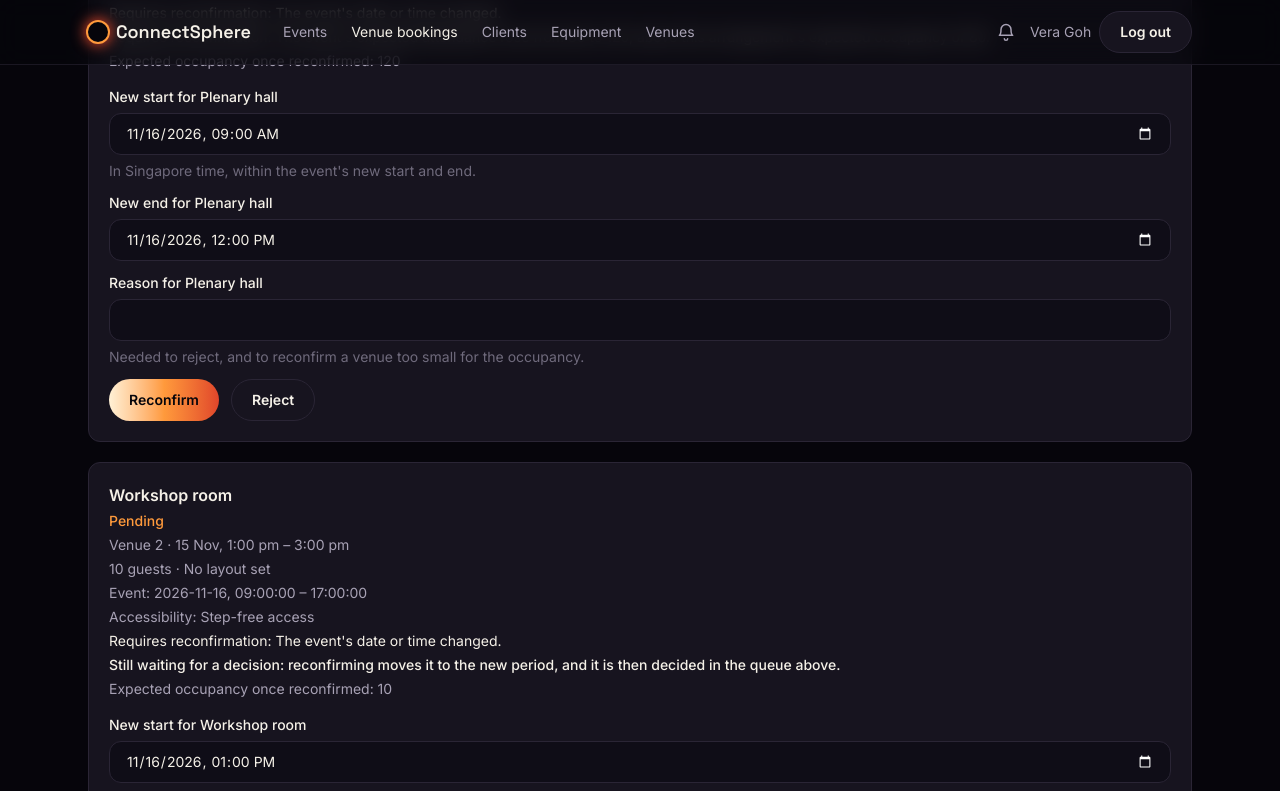
Test: SCRUM-59 flagged bookings on the venue booking page › shows the backend's field error when a rejection has no reason
(page scrolled)
Click the button with aria-label "Reject Plenary hall" at {"x": 273, "y": 400}, box [231,379,315,421]
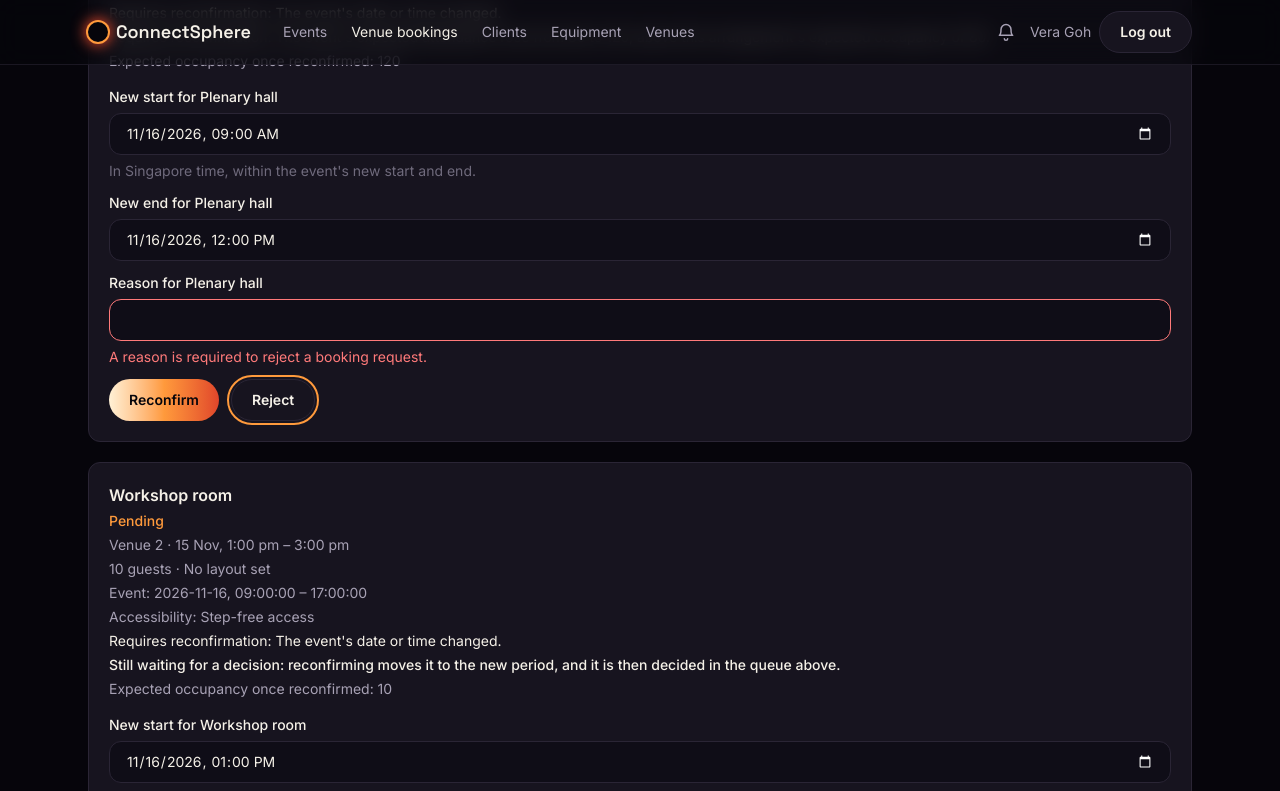
expect the list item "A reason is required to reject a booking request." is shown: met, box [109,348,427,365]
